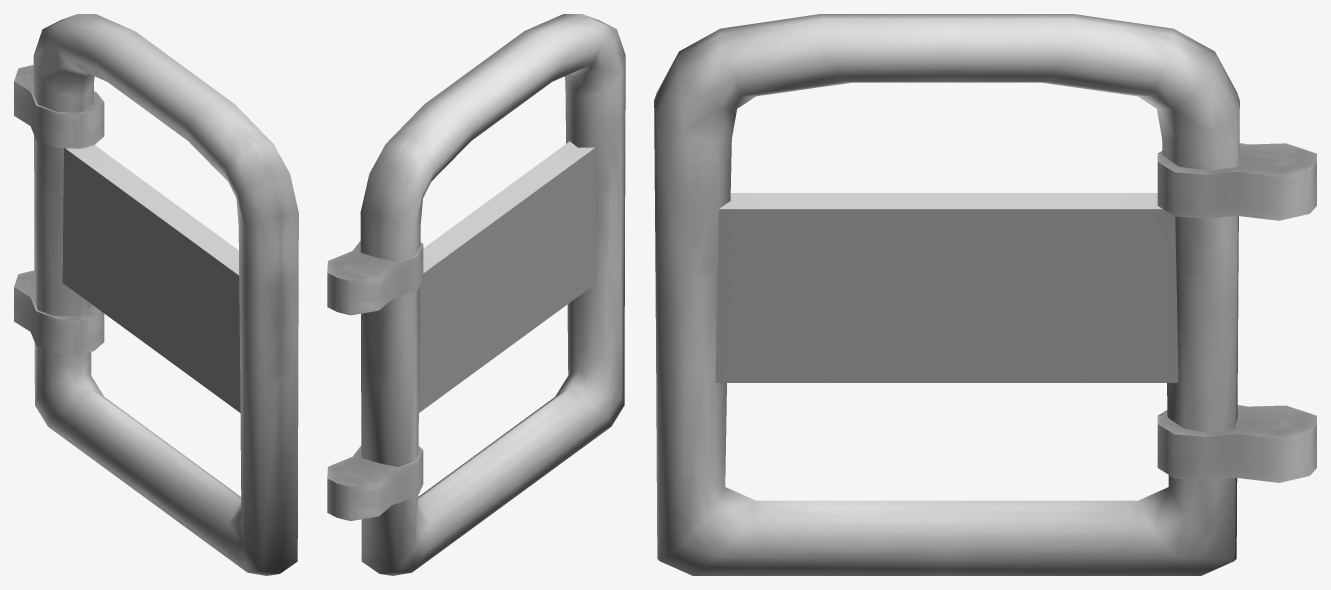
File: zal.FBX
3 renders of one model, left to right at view 1: azimuth 30°, elevation 25°; view 2: azimuth 150°, elevation 25°; view 3: azimuth 270°, elevation 25°, orthographic. The views are drawn at different scales.
Visible parts, largest first — view 1: Object02; view 2: Object02; view 3: Object02.
Boxes of the visible parts, bbox=[...] form: Object02: bbox=[14, 14, 298, 575]; Object02: bbox=[327, 14, 625, 575]; Object02: bbox=[654, 14, 1316, 575].
Bounding box in the file's own units: 0.000565 × 0.0041 × 0.00378.
